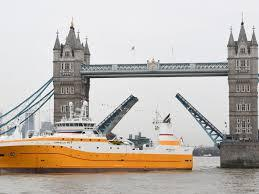Ship: (1, 110, 194, 172)
